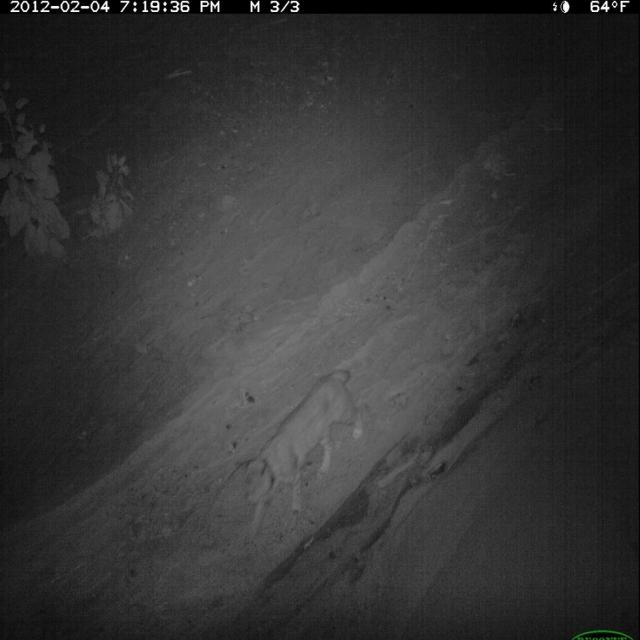bobcat: (240, 363, 368, 549)
